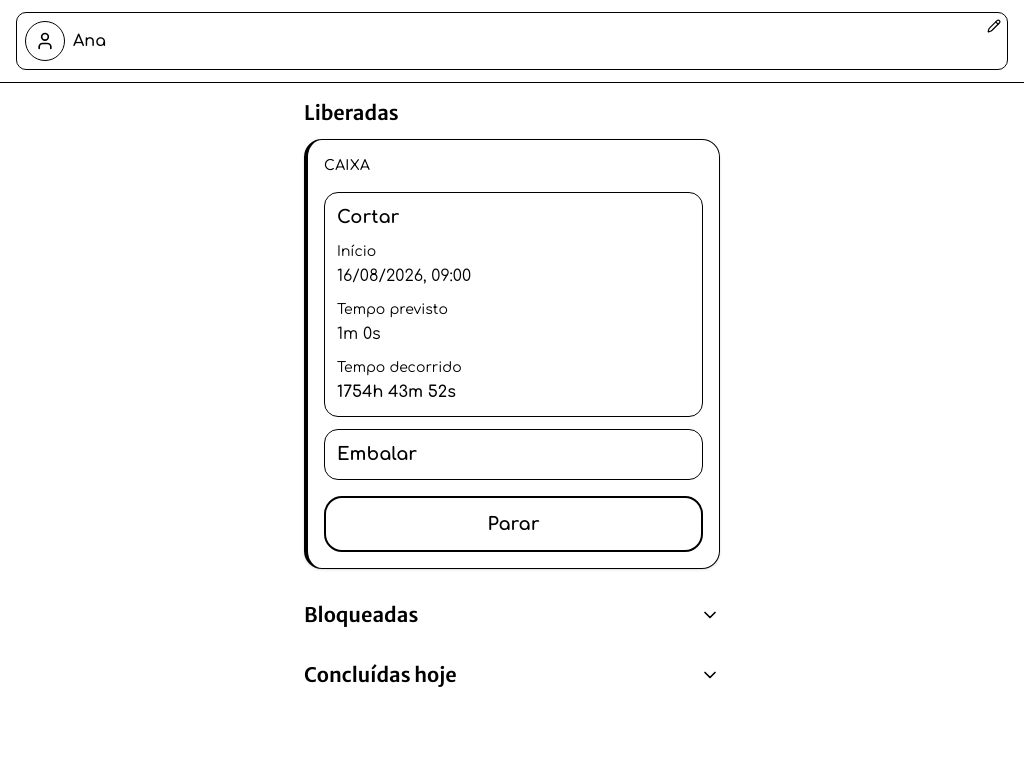
KioskPanelClient › keeps chain stop enabled after background auto-advance
Step 1. Click the button "Parar" → (514, 524), box x1=324 y1=496 x2=703 y2=552
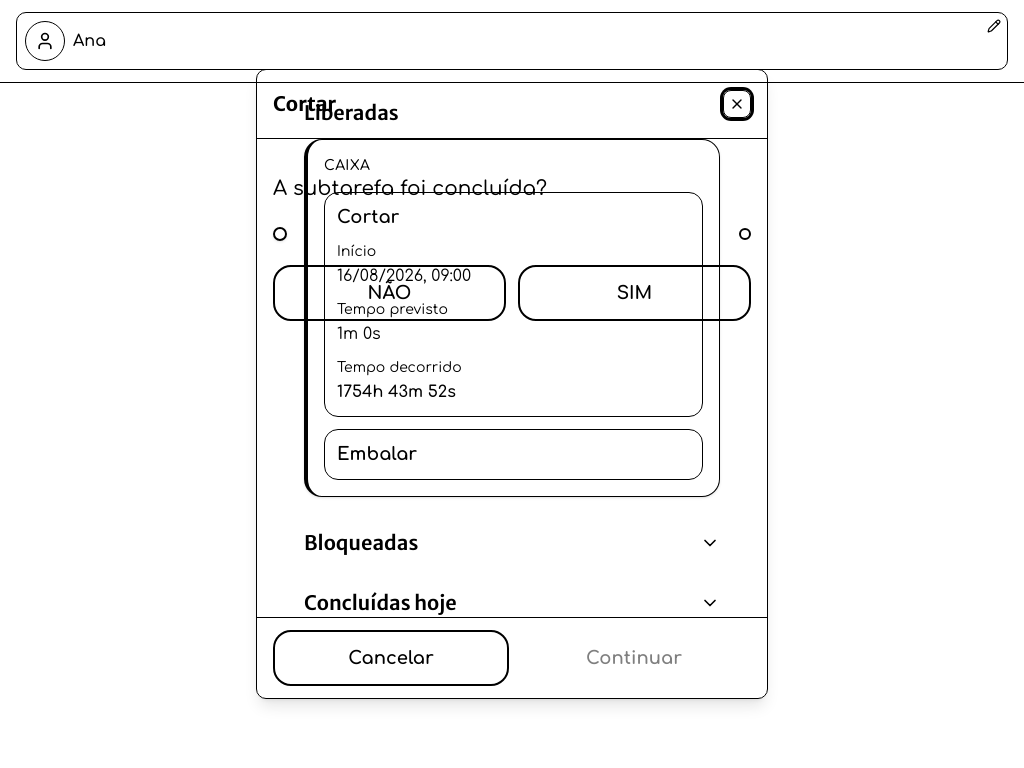
Check: the text "A subtarefa foi concluída?" is shown, box x1=273 y1=177 x2=547 y2=200
